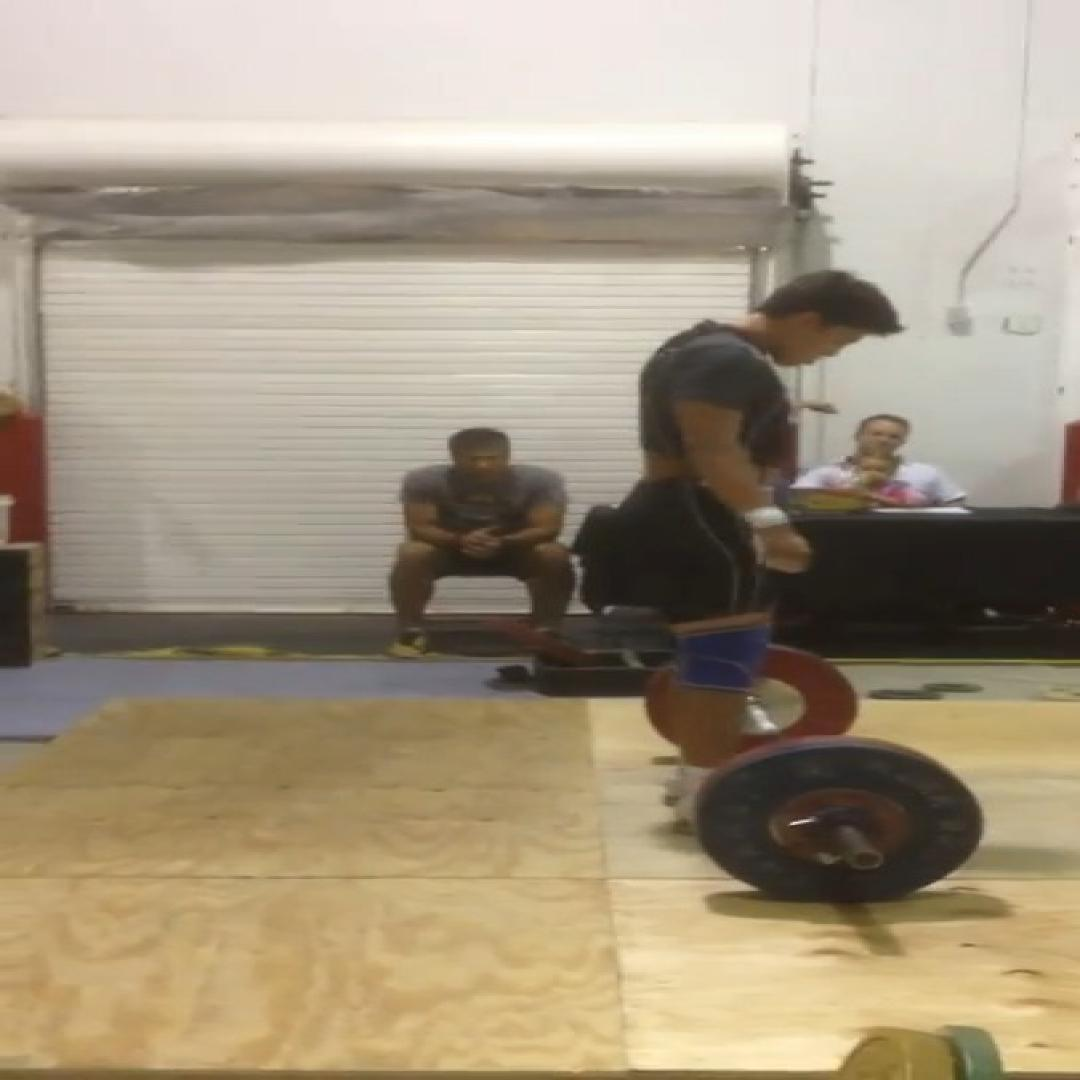Bar: (846, 849, 886, 871)
Barbell: (694, 746, 984, 901)
